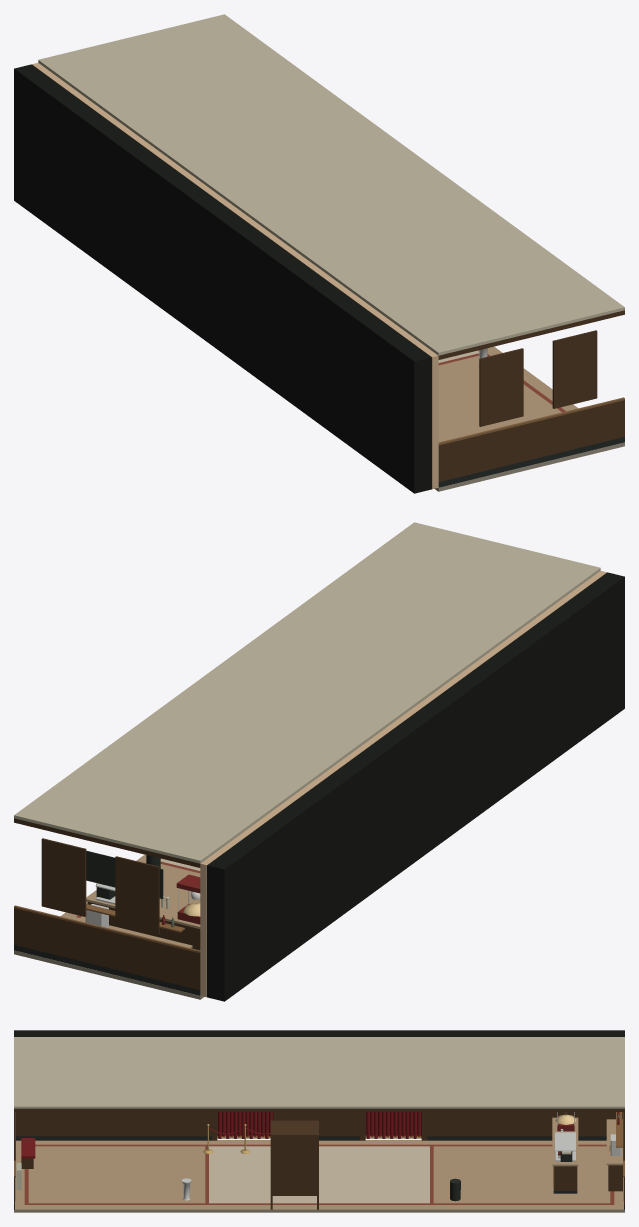
The model's file is SM_Town_Cinema_Interior.fbx.
3 views of the same model, one above another, from view 1: azimuth 30°, elevation 25°; view 2: azimuth 150°, elevation 25°; view 3: azimuth 270°, elevation 25° (orthographic). The views are drawn at different scales.
Parts seen in each view (by area): view 1: SM_Town_Cinema_Interior; view 2: SM_Town_Cinema_Interior; view 3: SM_Town_Cinema_Interior.
Boxes of the visible parts, bbox=[...] form: SM_Town_Cinema_Interior: bbox=[14, 14, 624, 493]; SM_Town_Cinema_Interior: bbox=[14, 522, 624, 1001]; SM_Town_Cinema_Interior: bbox=[14, 1030, 624, 1212].
Bounding box in the file's own units: 6.01 × 19.78 × 3.79.
